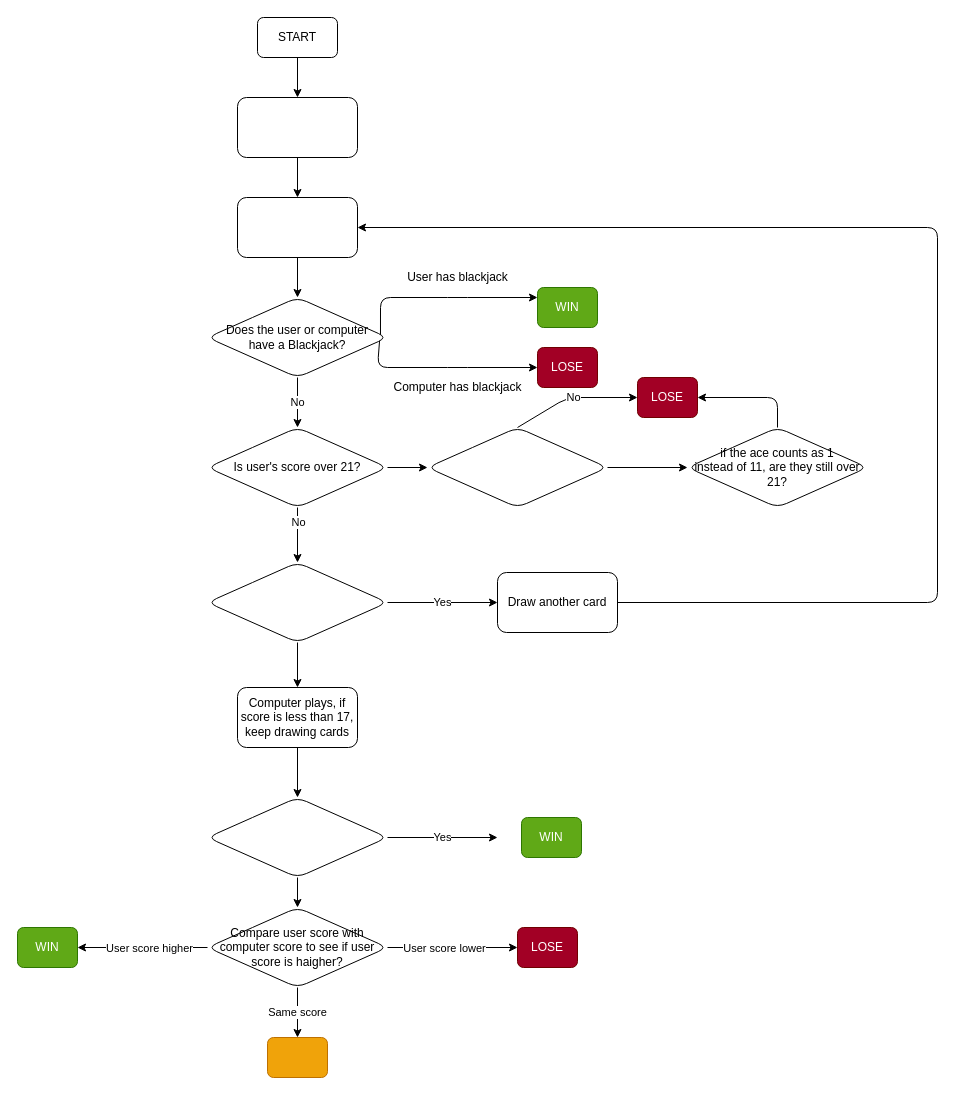
Some shapes in this 963 by 1095 pixel diagram are drawn without their labels. The shapes that lost their labels are listed below. From the top down, each one's centre as x and y in pixels, then its label:
point 297,127: user and computer should each get 2 random vards
point 297,227: Add up the user's and the computer's scores
point 517,467: Do they have and "Ace"?
point 297,602: Ask the user if they want to get another card
point 297,837: Has computer gone over 21?
point 297,1057: DRAW
